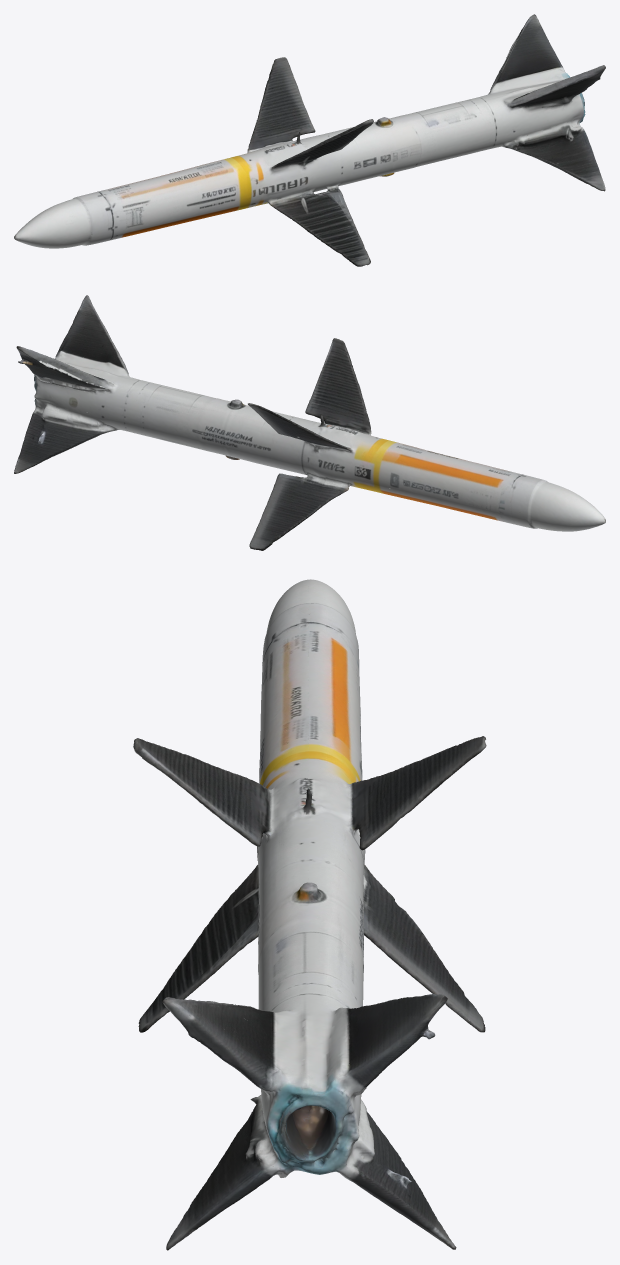
The model's file is EnemyBullet.obj.
3 views of the same model, one above another, from view 1: azimuth 30°, elevation 25°; view 2: azimuth 150°, elevation 25°; view 3: azimuth 270°, elevation 25° (orthographic). The views are drawn at different scales.
Visible parts, largest first — view 1: model; view 2: model; view 3: model.
Boxes of the visible parts, bbox=[...] form: model: bbox=[14, 14, 605, 266]; model: bbox=[14, 295, 605, 550]; model: bbox=[133, 579, 486, 1250].
Bounding box in the file's own units: 2 × 0.495 × 0.5431.
Materials: 1 (1 with a texture image).
